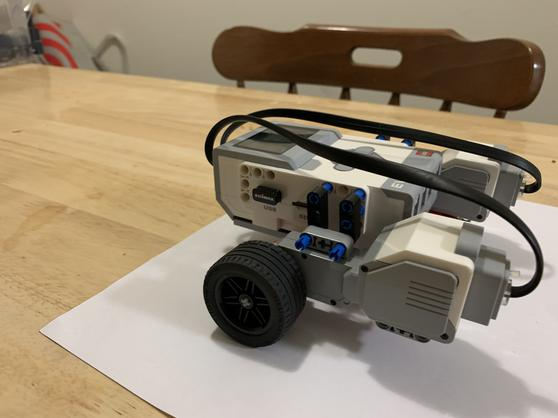robot: (202, 108, 554, 354)
